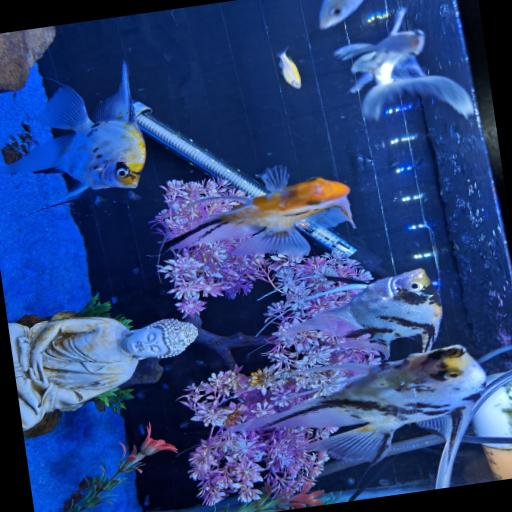Fish: (227, 345, 485, 465), (0, 63, 145, 203), (164, 166, 354, 256), (334, 8, 473, 119), (281, 269, 441, 359), (319, 0, 363, 29), (276, 48, 300, 89)
